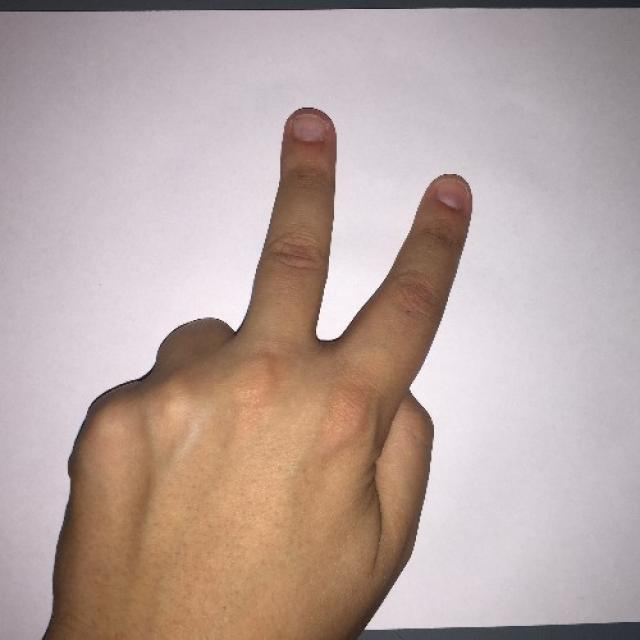scissors: (73, 102, 472, 622)
